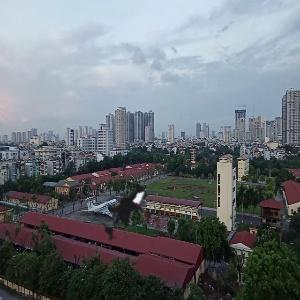drone: (80, 166, 181, 267)
